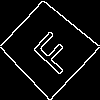F: (23, 23, 78, 77)
